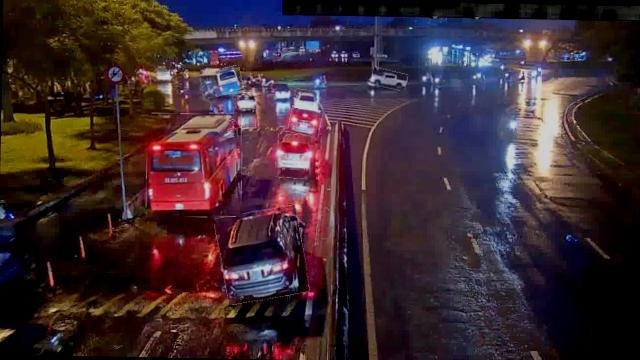Bus: (145, 112, 243, 218), (200, 66, 243, 97)
Car: (215, 207, 308, 304), (276, 132, 321, 180), (288, 105, 322, 136), (371, 68, 407, 90), (232, 90, 258, 111), (294, 90, 318, 110)
